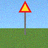sign: (18, 1, 31, 35)
